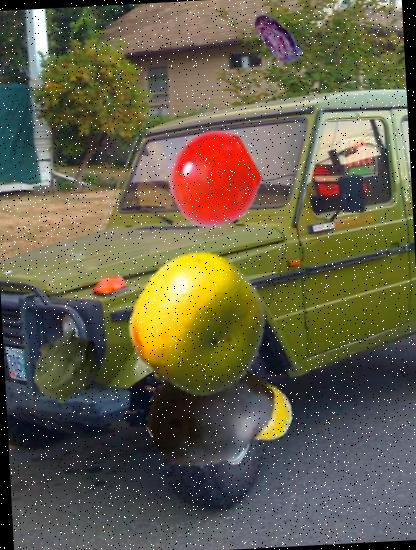Dates: (245, 7, 308, 70)
Kohlrabi: (29, 328, 106, 406)
Maracuja: (226, 376, 294, 445)
Plum: (143, 341, 280, 480)
Pomelo: (125, 249, 275, 399)
Redcurrant: (164, 130, 262, 229)
